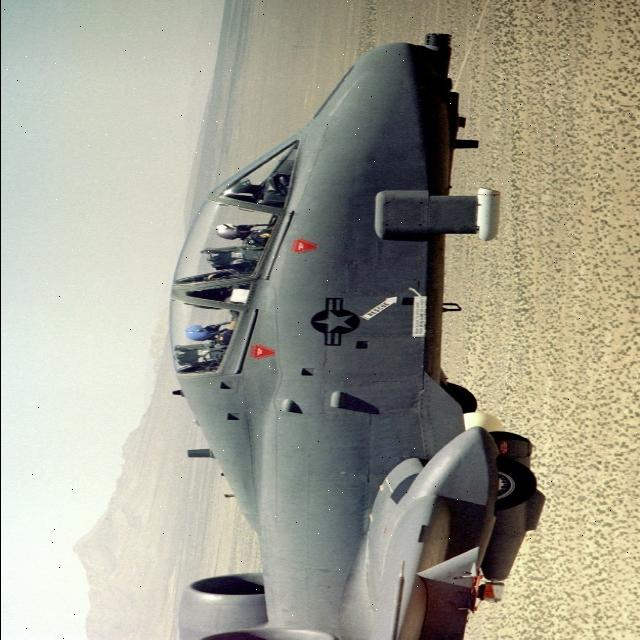A10: (89, 27, 577, 640)
